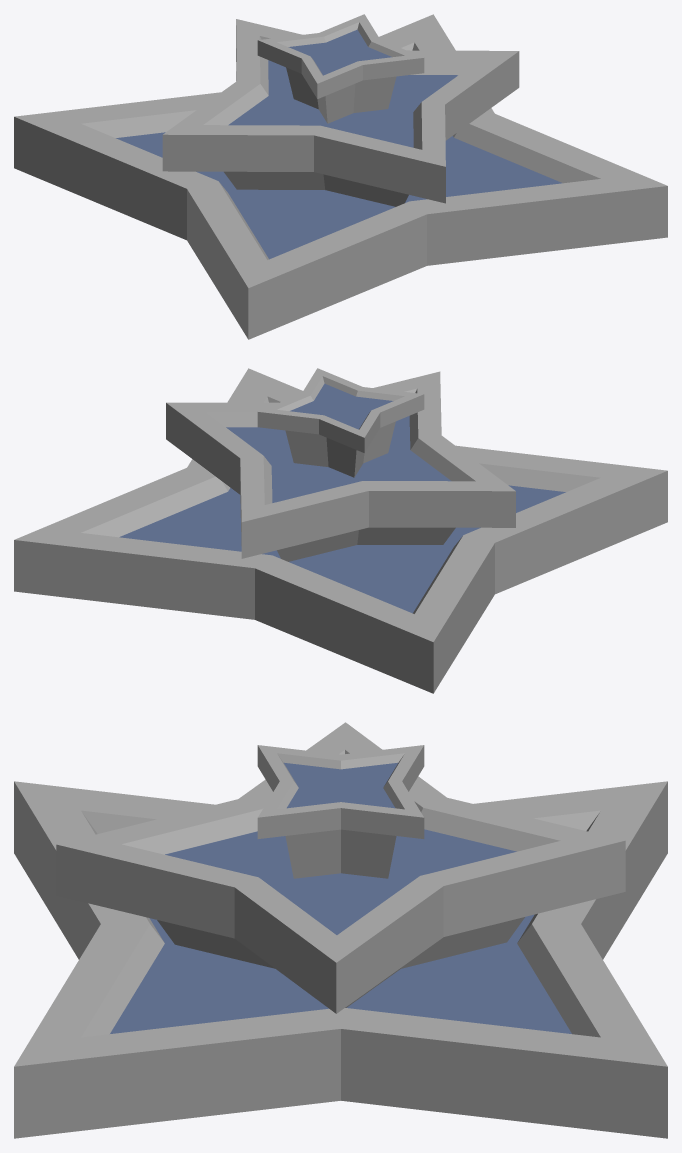
File: fountain5.fbx
The picture shows the model from 3 angles, top to bottom: view 1: azimuth 30°, elevation 25°; view 2: azimuth 150°, elevation 25°; view 3: azimuth 270°, elevation 25°; orthographic projection. The views are drawn at different scales.
Parts seen in each view (by area): view 1: Fountain1.006; view 2: Fountain1.006; view 3: Fountain1.006.
Boxes of the visible parts, x1,y1,x2,y2 form: Fountain1.006: (14, 14, 667, 339); Fountain1.006: (14, 368, 667, 693); Fountain1.006: (14, 722, 667, 1138).
Size of the model in its own units: 230 by 80.72 by 223.
